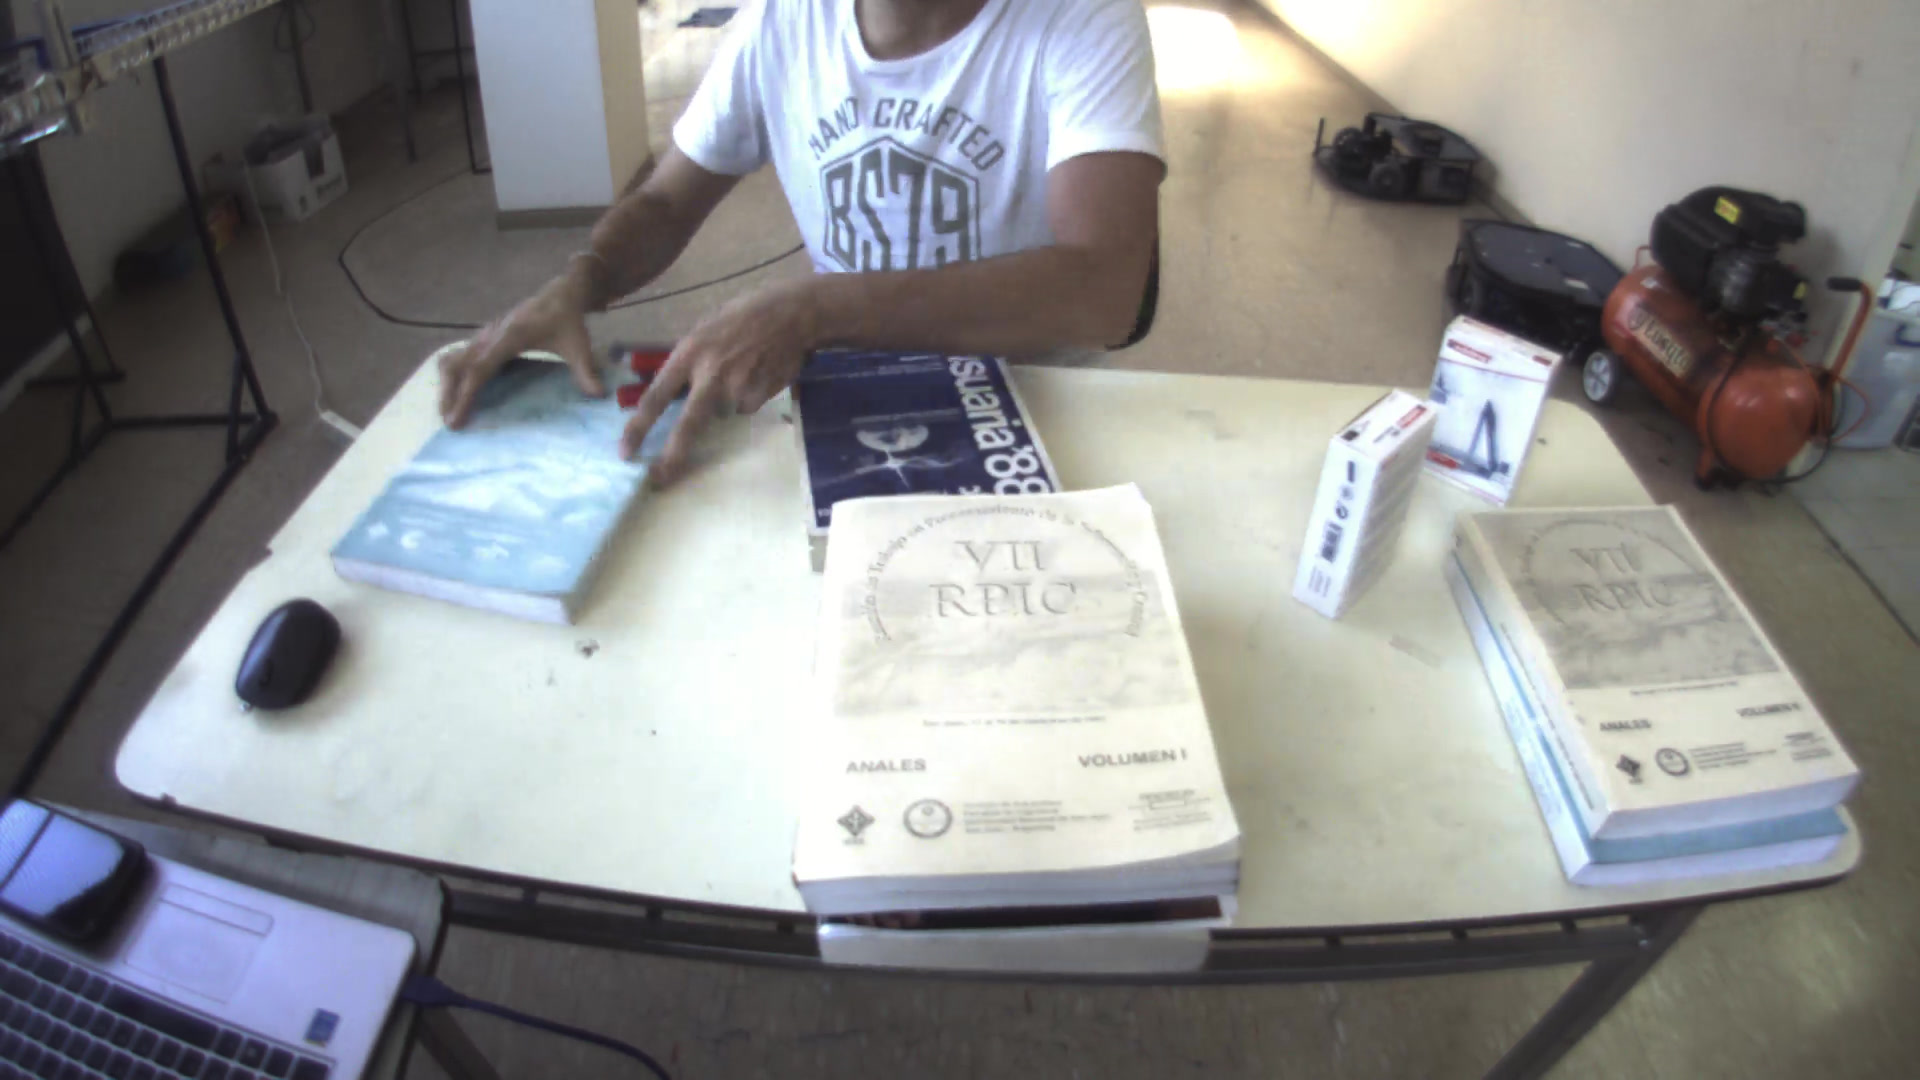hand: (603, 280, 822, 485), (413, 256, 612, 421)
